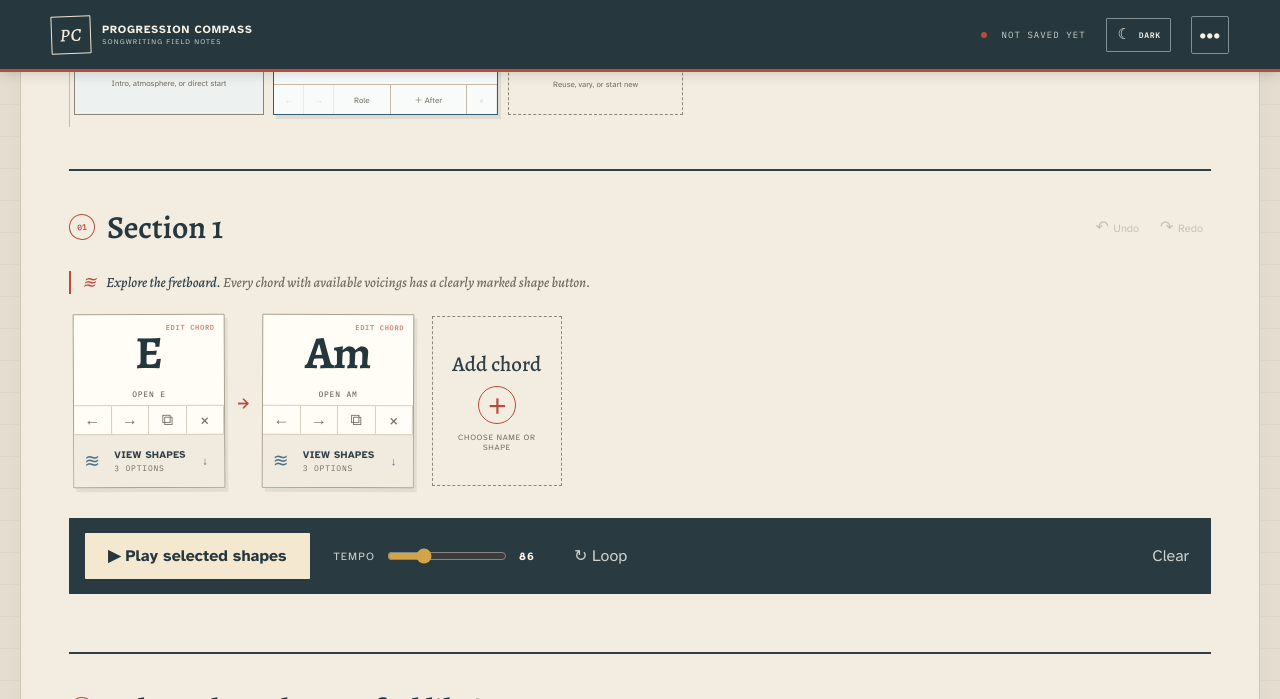
Test: guided chord entry › updates the progression and reveals the saved custom shape
(page scrolled)
Click the button with aria-label "Edit E".
click(149, 360)  # box [74,315,224,406]
(page scrolled)
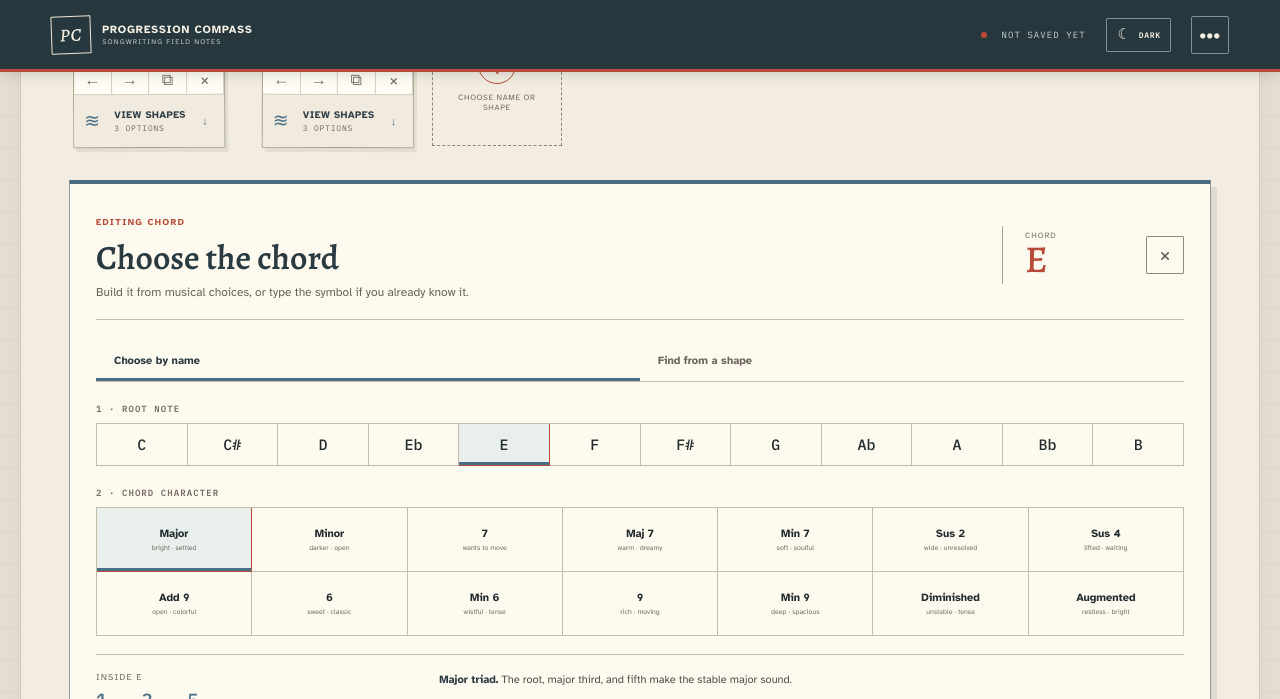
Click the tab "Find from a shape".
click(705, 361)  # box [640,340,1184,381]
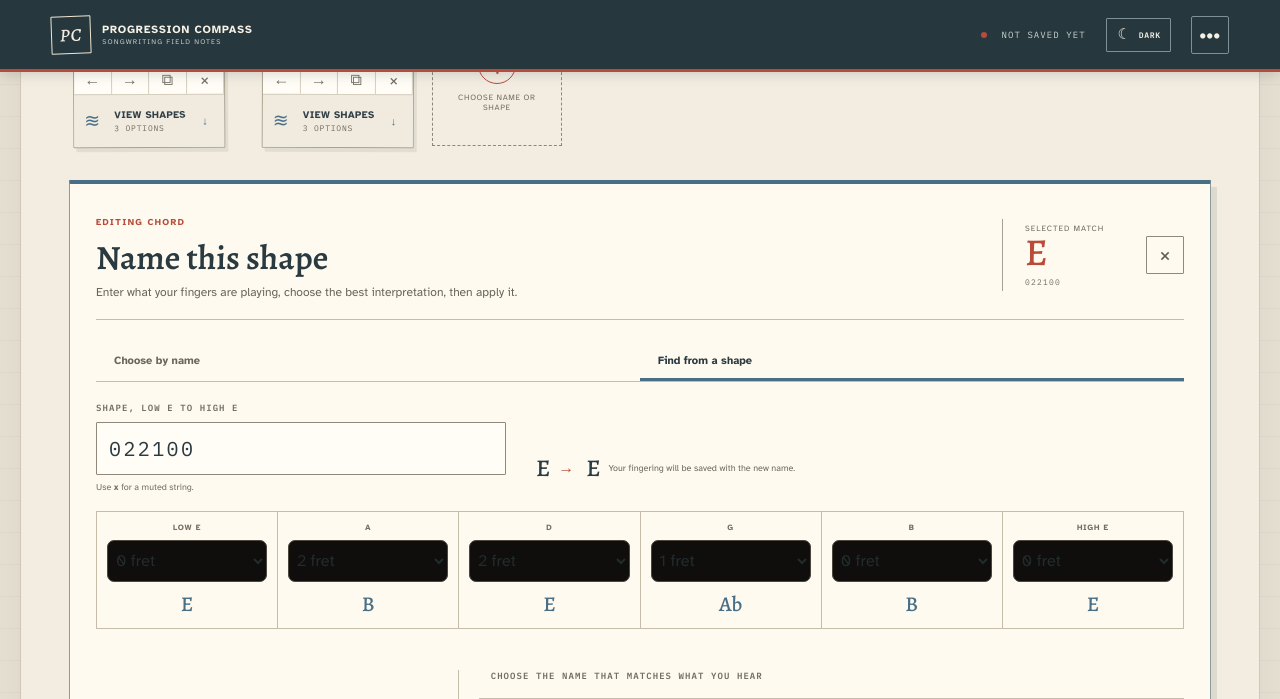
Replace the text in the field named "Six-string shape code" with "320033" at (301, 449), box [96,422,506,475]
(page scrolled)
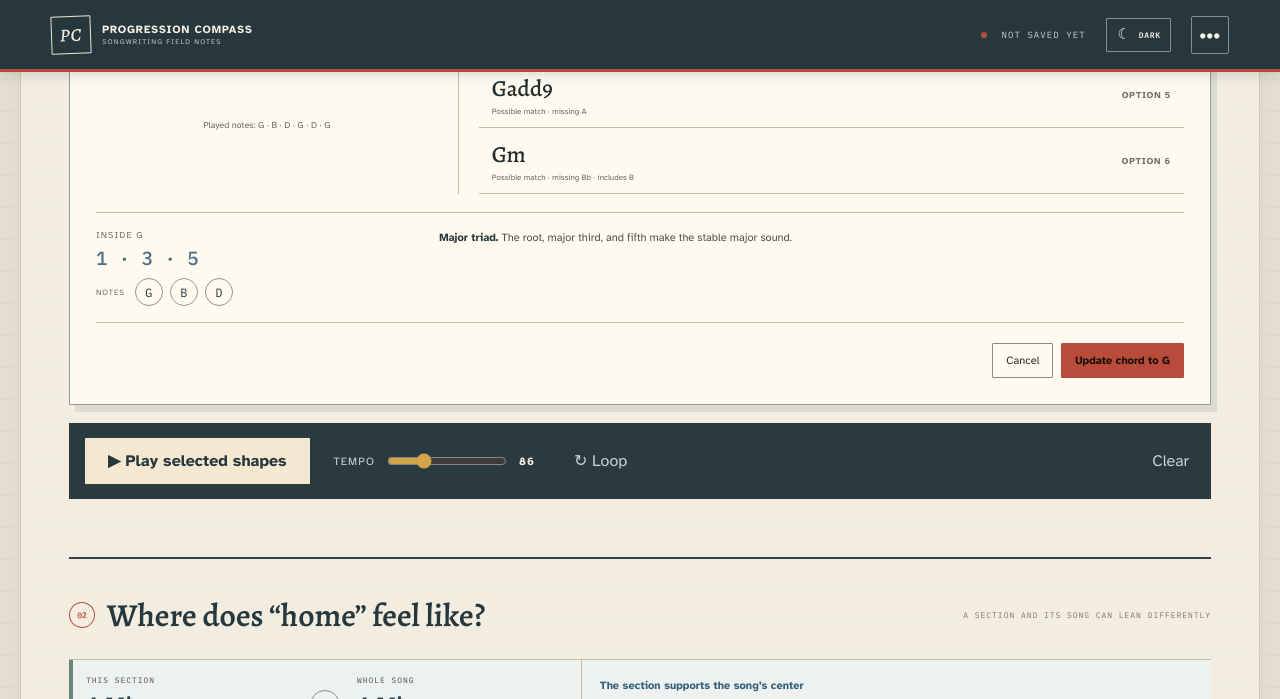
Click the button "Update chord to G".
click(1123, 361)  # box [1061,343,1184,378]
(page scrolled)
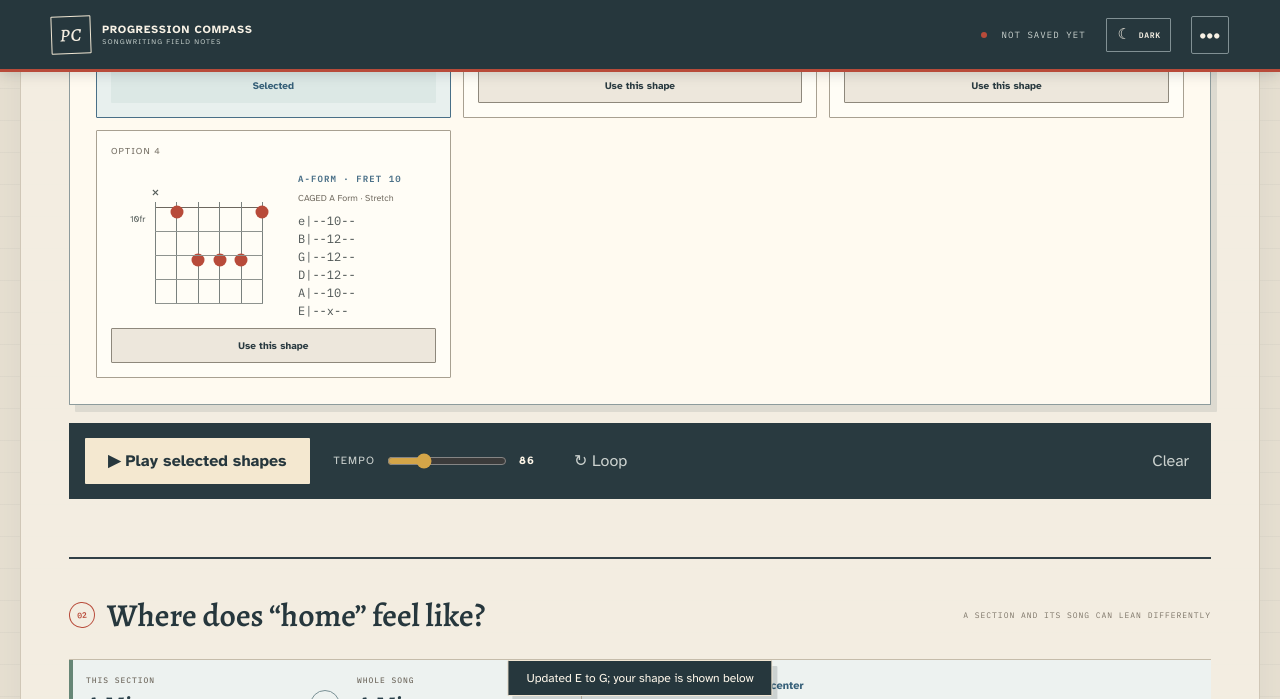
Expected: the text "Updated E to G; your shape is shown below" is shown, [507,660,773,696]
